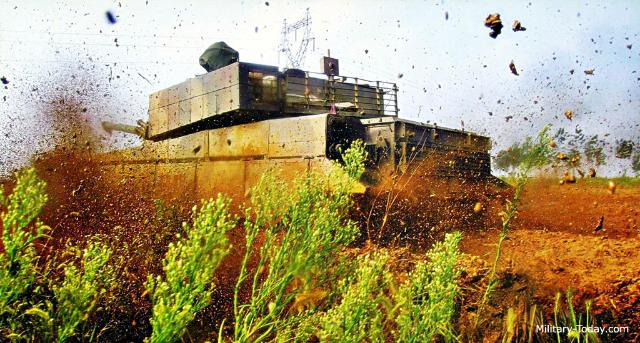tank: (94, 57, 498, 212)
